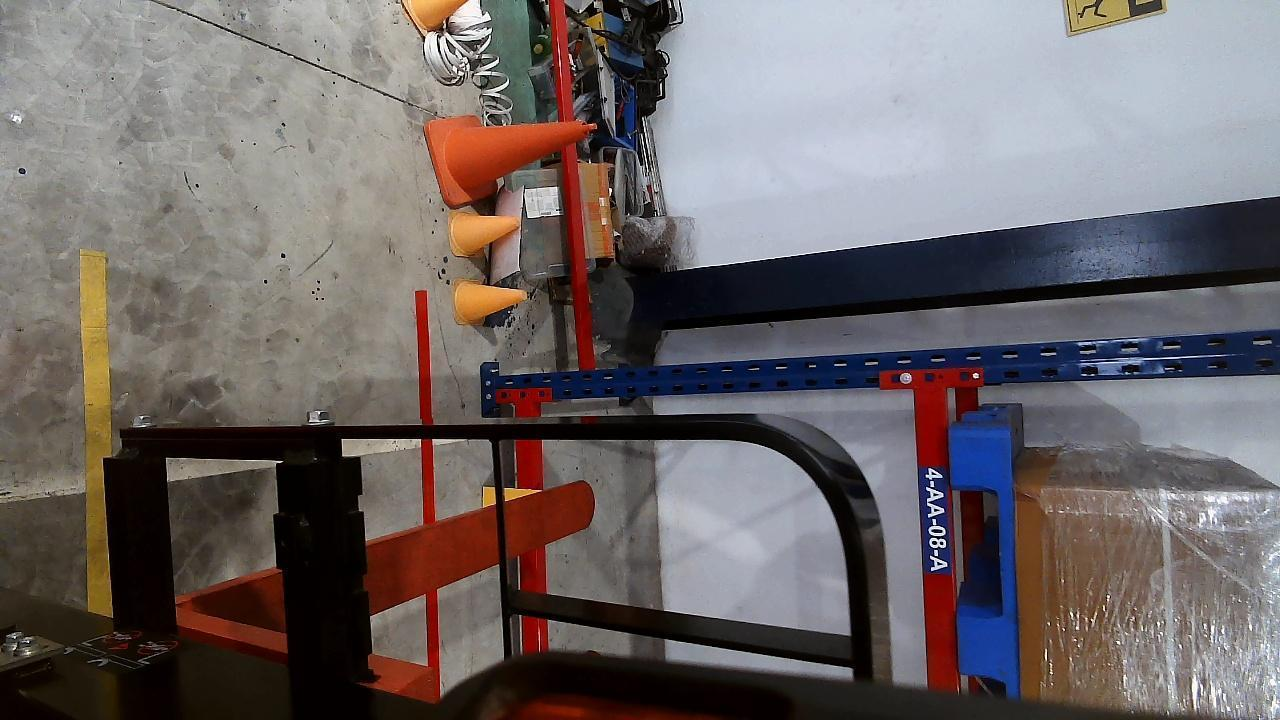red_line: (414, 289, 447, 659)
yellow_line: (78, 250, 110, 615)
